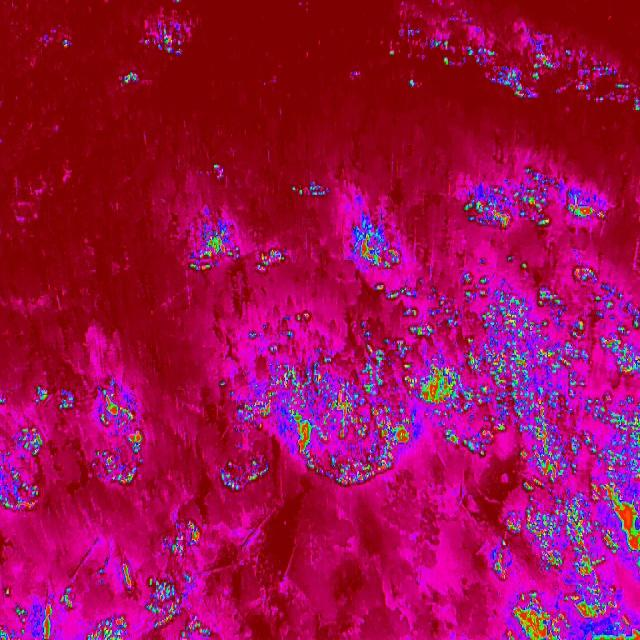fire: (216, 254, 640, 496), (390, 20, 640, 120), (486, 492, 640, 640), (0, 370, 141, 516), (0, 571, 230, 640), (455, 171, 610, 237), (187, 214, 288, 281), (350, 206, 404, 274), (144, 20, 188, 60), (164, 520, 204, 554), (284, 174, 332, 202), (116, 70, 141, 86), (55, 36, 73, 52)
